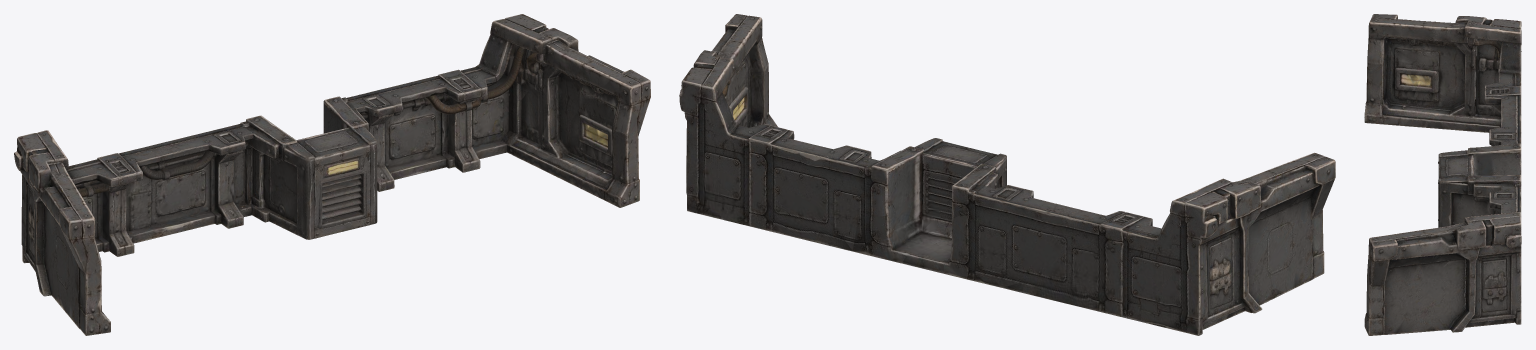
File: under_dash.glb
3 views of the same model, side by side, from view 1: azimuth 30°, elevation 25°; view 2: azimuth 150°, elevation 25°; view 3: azimuth 270°, elevation 25° (orthographic). The views are drawn at different scales.
Visible parts, largest first — view 1: world; view 2: world; view 3: world.
Part boxes in pixels (x1,y1,x2,y2): world: (14, 14, 650, 335); world: (679, 14, 1335, 335); world: (1364, 14, 1521, 335).
Size of the model in its own units: 1.9 by 0.3934 by 0.5416.
1 material, 1 textured.
